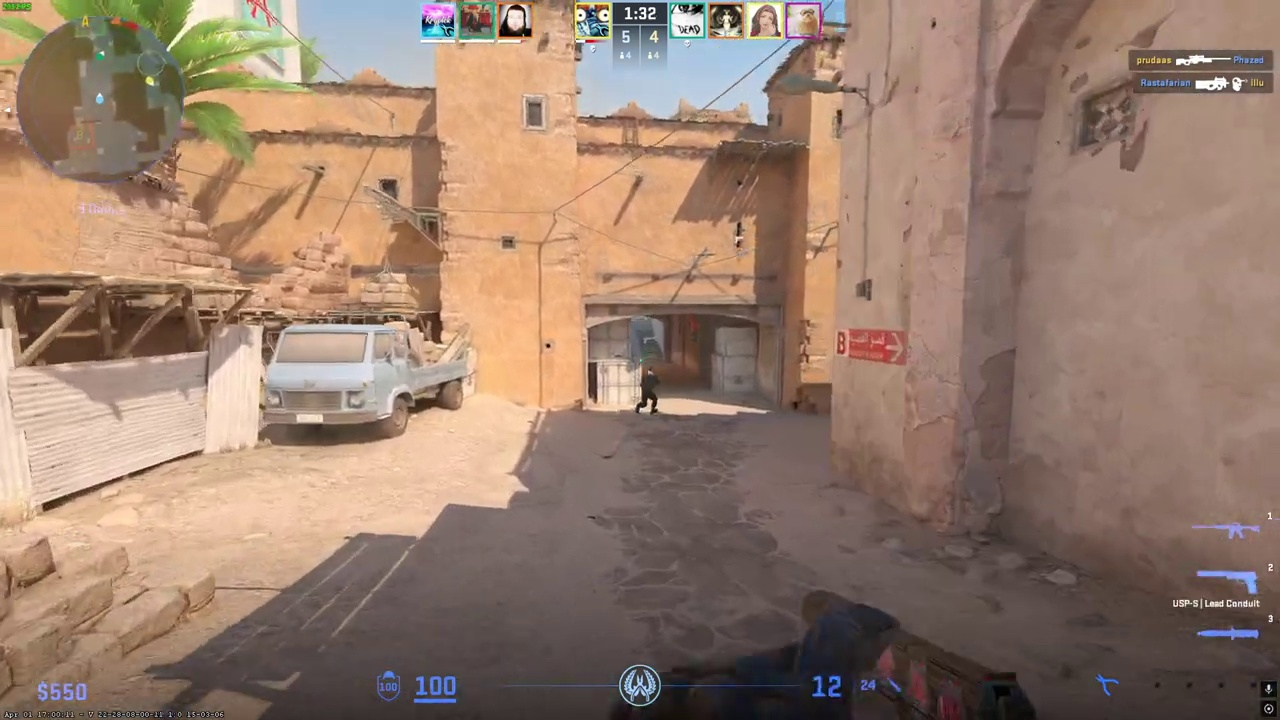CT: (636, 365, 660, 415)
